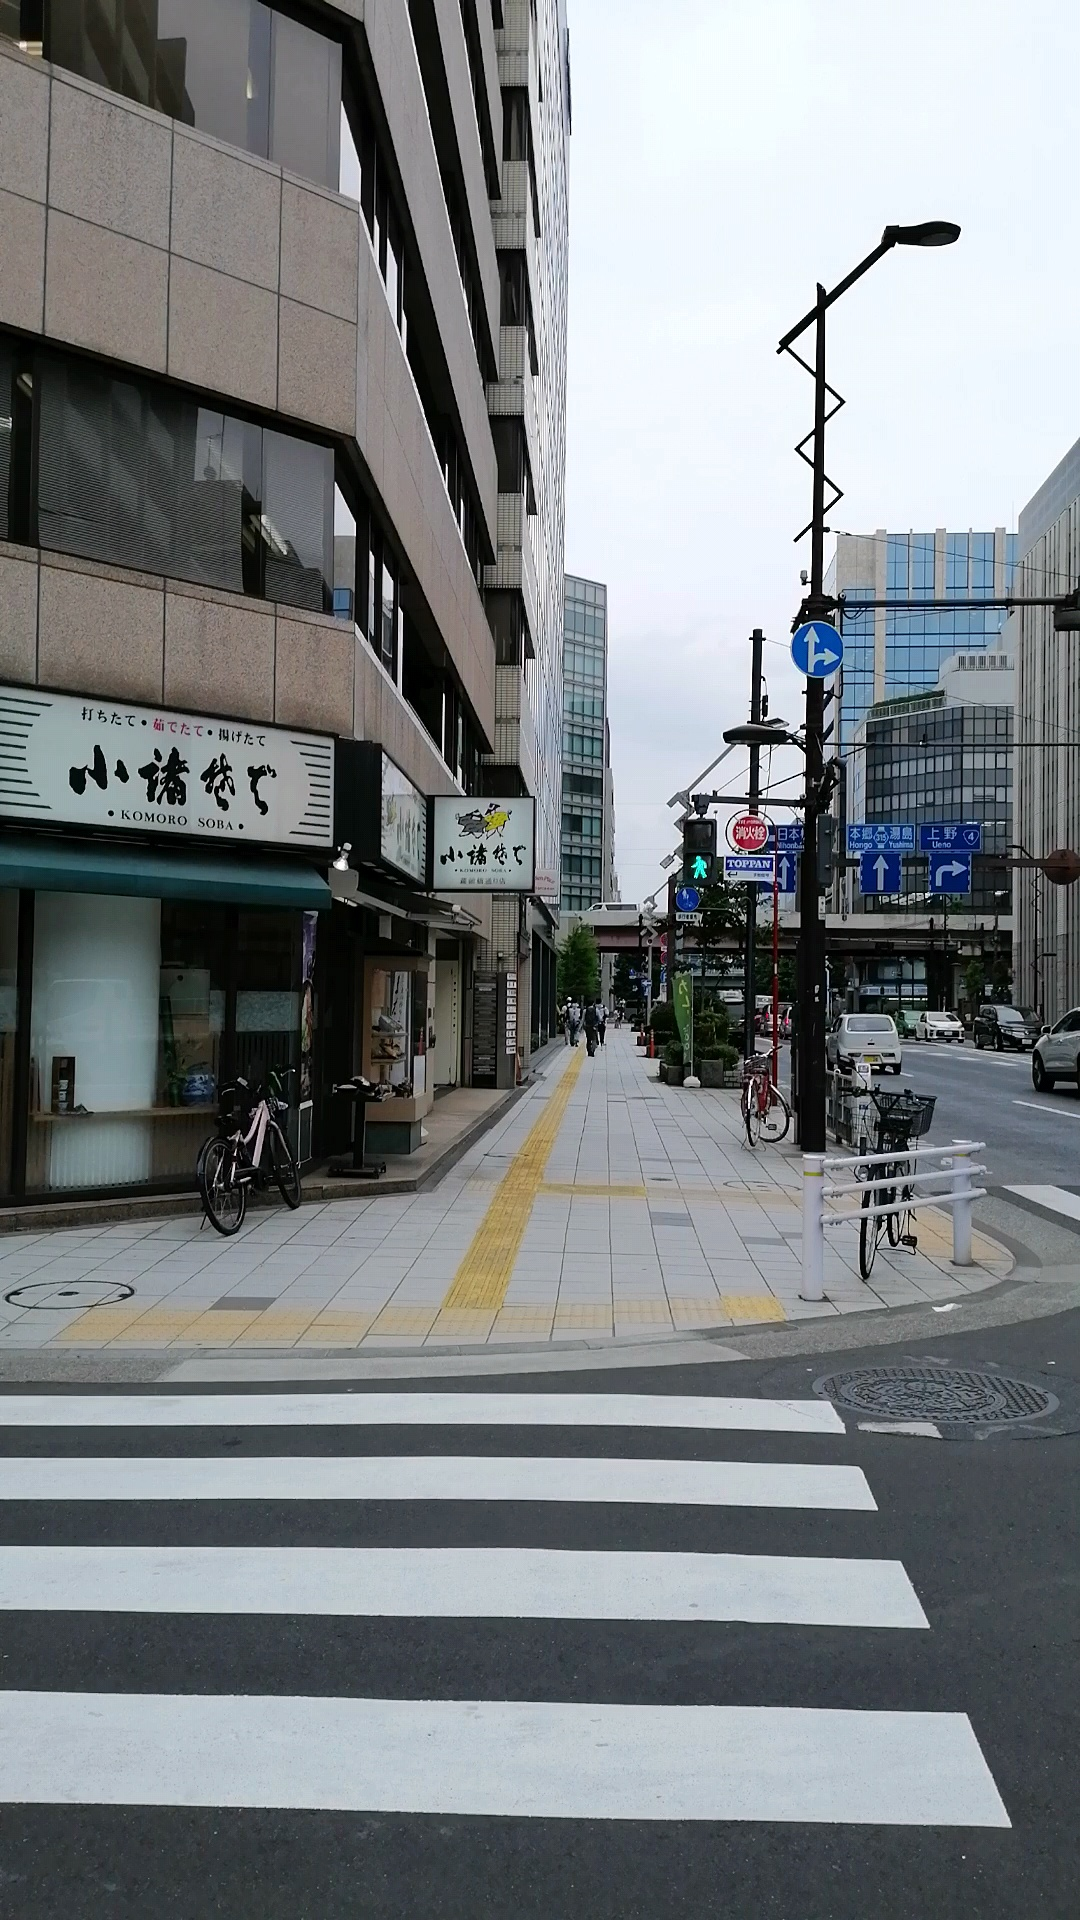green: (683, 818, 716, 885)
